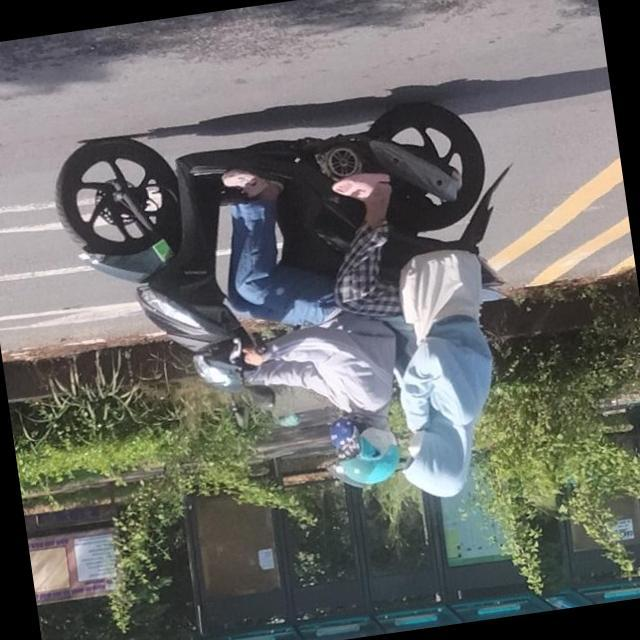WITH_HELMET: (326, 418, 406, 491)
